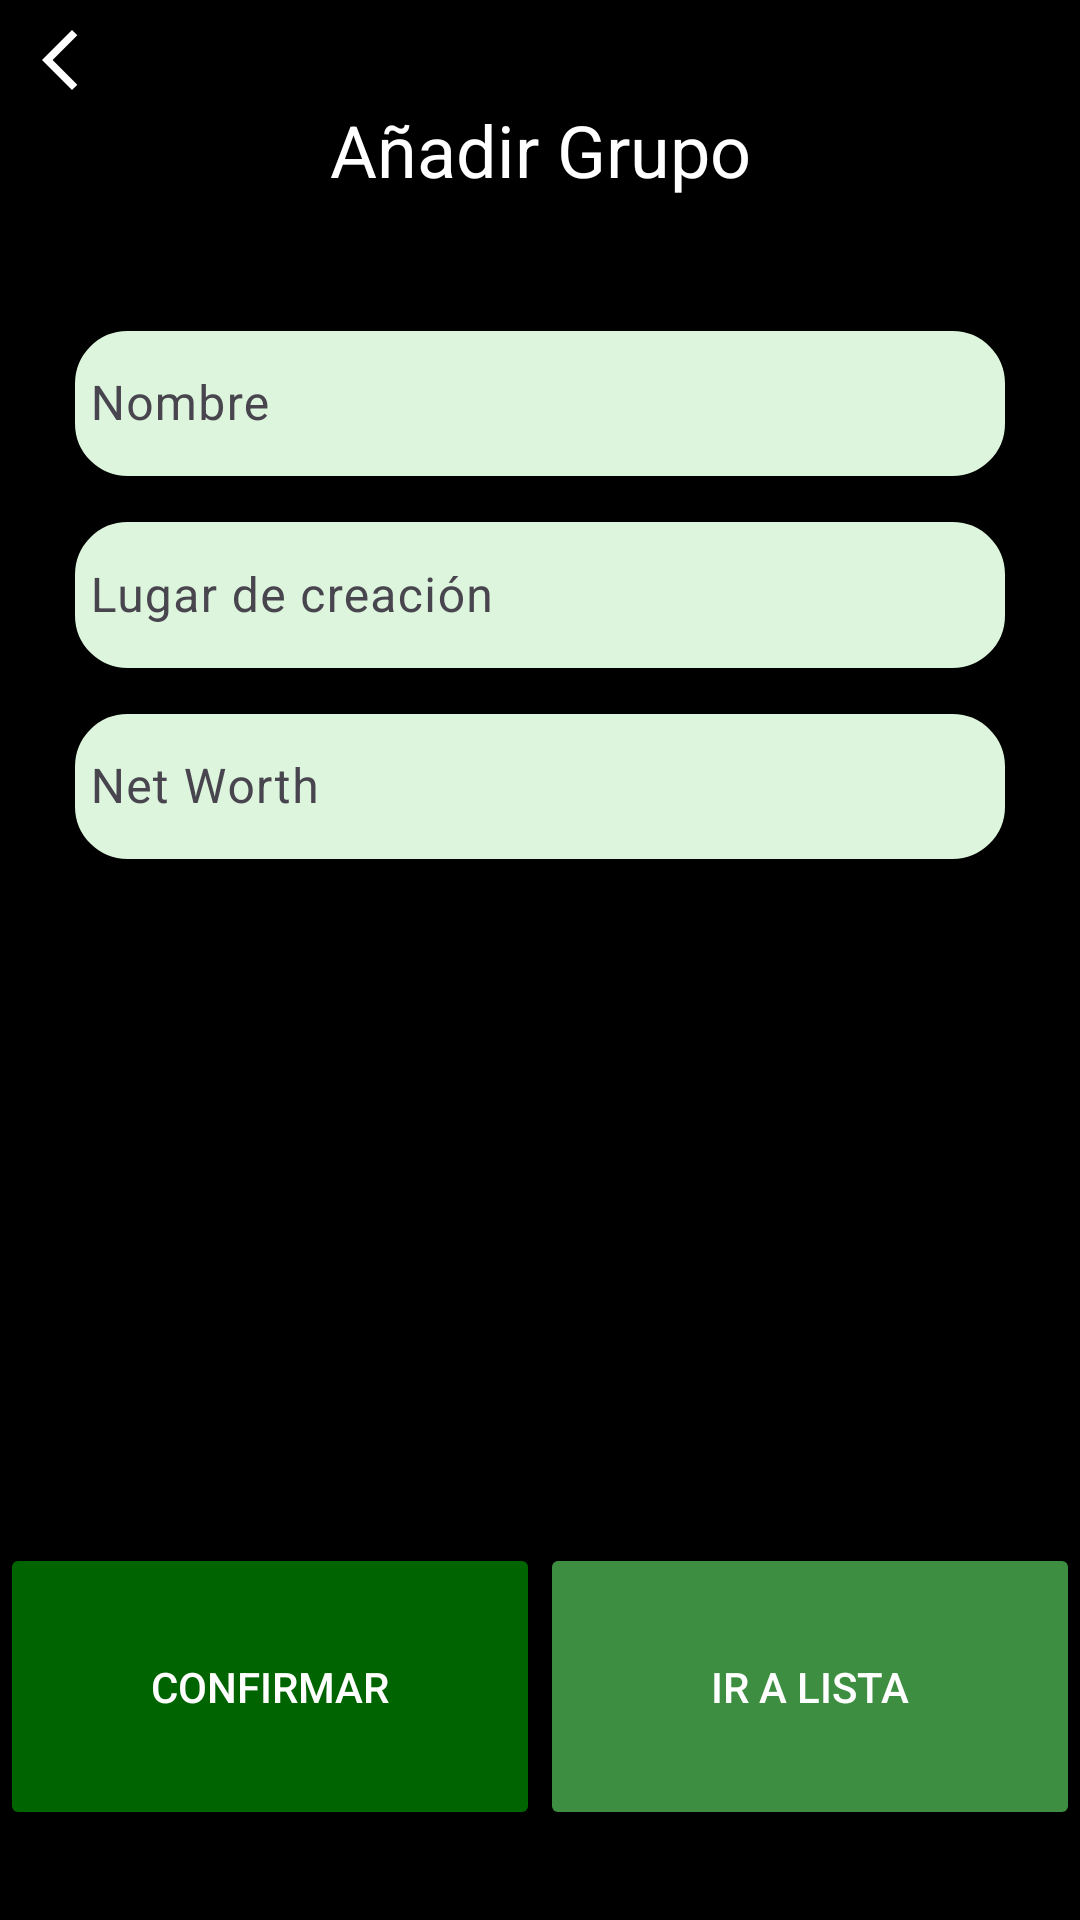

Icon bounding boxes for this 1080w x 1920h phone screenshot, format (x1,y1,x2,y2):
flechita atras blanco: (42,30,77,90)
